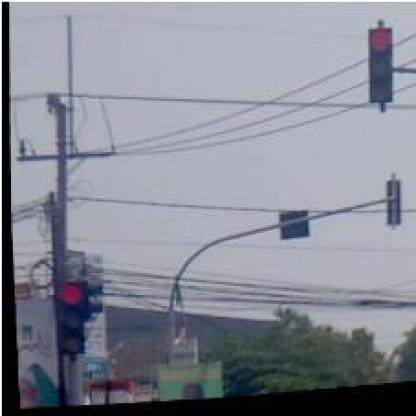red: (50, 280, 86, 359), (364, 33, 398, 110)
